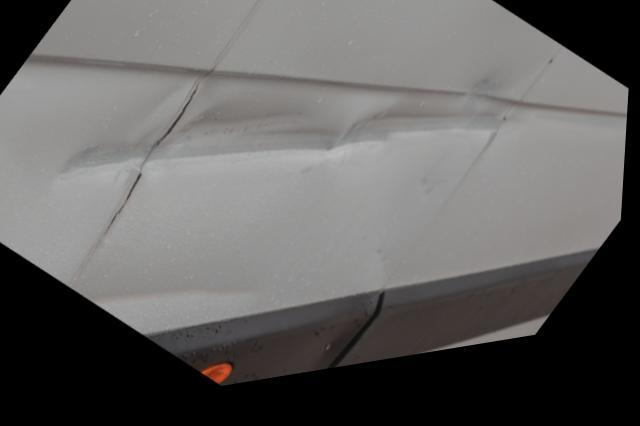dent: (139, 89, 521, 181), (56, 88, 189, 180)
